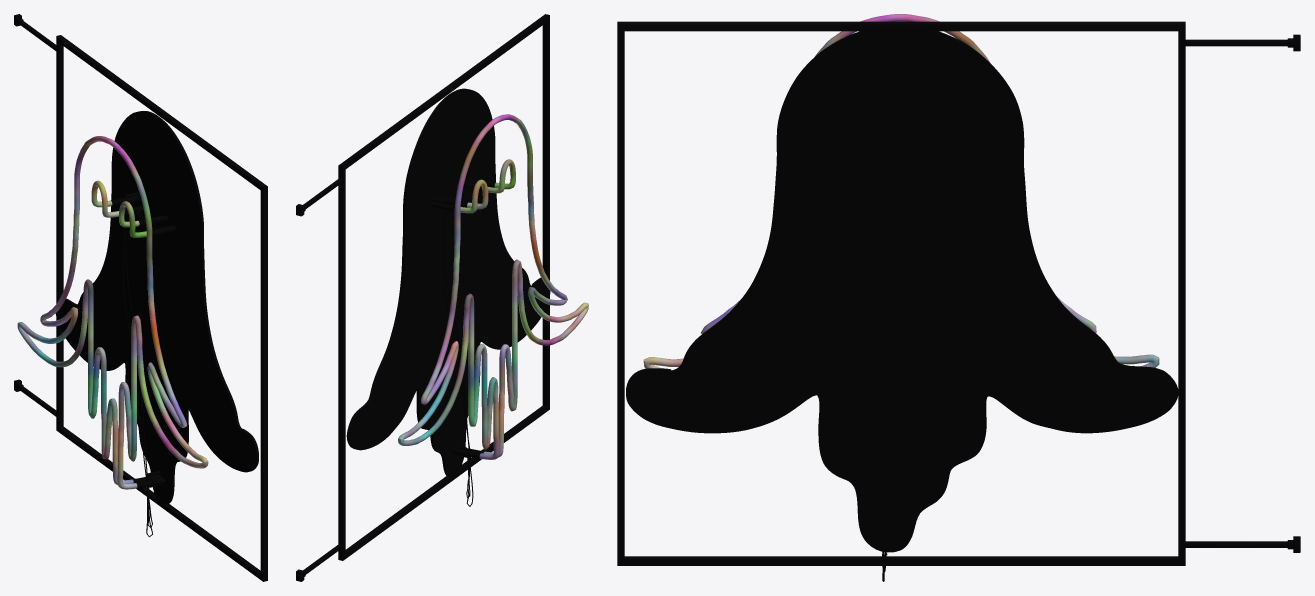
Rendered from neonsign_21.fbx.
3 views of the same model, side by side, from view 1: azimuth 30°, elevation 25°; view 2: azimuth 150°, elevation 25°; view 3: azimuth 270°, elevation 25° (orthographic). The views are drawn at different scales.
Parts seen in each view (by area): view 1: neonsign_21; view 2: neonsign_21; view 3: neonsign_21.
Boxes of the visible parts, x1=… form: neonsign_21: x1=14, y1=14, x2=267, y2=581; neonsign_21: x1=296, y1=14, x2=588, y2=581; neonsign_21: x1=617, y1=14, x2=1300, y2=581.
Bounding box in the file's own units: 0.2374 × 1.73 × 1.87.
